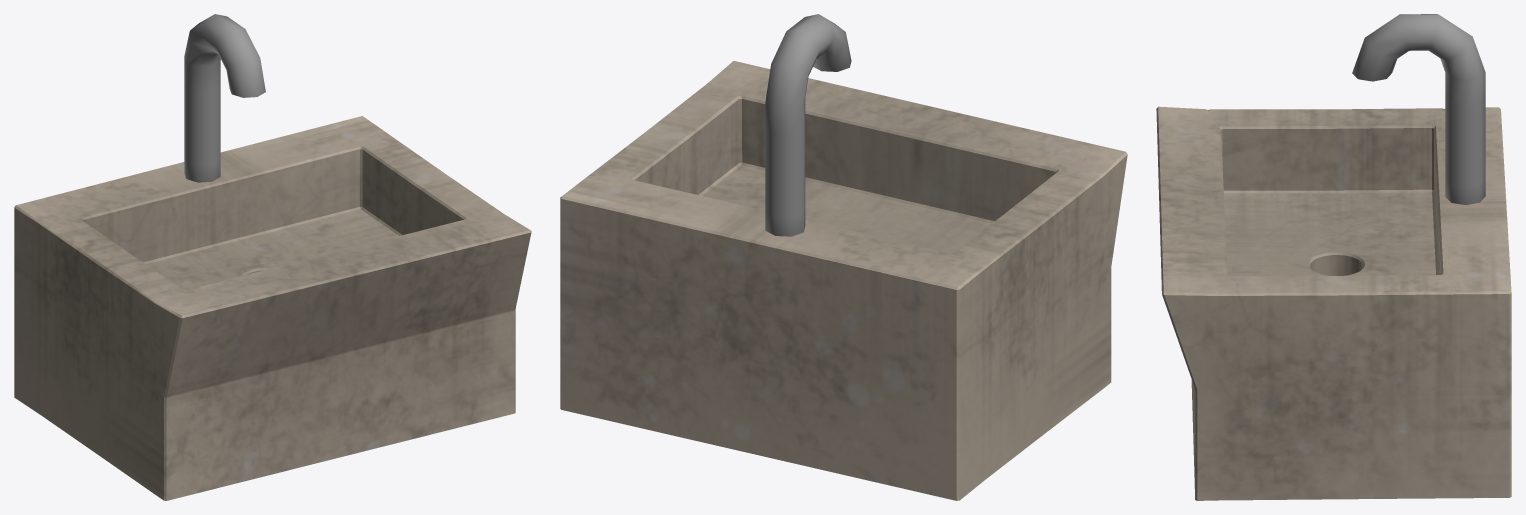
File: sink.fbx
3 renders of one model, left to right at view 1: azimuth 30°, elevation 25°; view 2: azimuth 150°, elevation 25°; view 3: azimuth 270°, elevation 25°, orthographic. The views are drawn at different scales.
Visible parts, largest first — view 1: polySurface594; view 2: polySurface594; view 3: polySurface594.
Boxes of the visible parts, left/top/right/bottom form: polySurface594: left=14, top=14, right=531, bottom=500; polySurface594: left=560, top=14, right=1127, bottom=500; polySurface594: left=1156, top=14, right=1511, bottom=500.
Bounding box in the file's own units: 1.39 × 1.33 × 1.1.
Materials: 1 (1 with a texture image).
